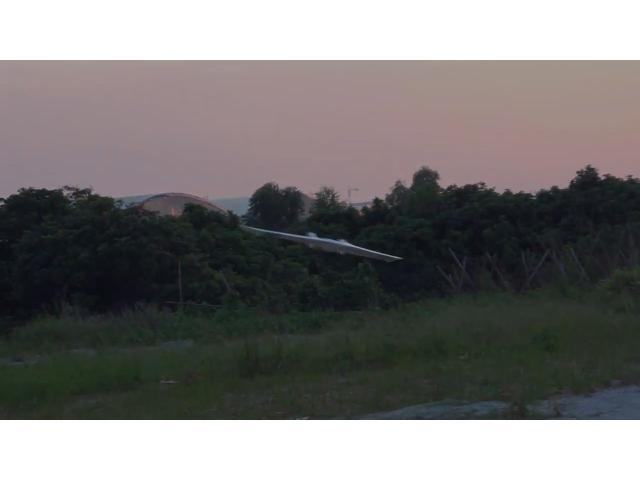Anti-Drone: (239, 224, 401, 264)
